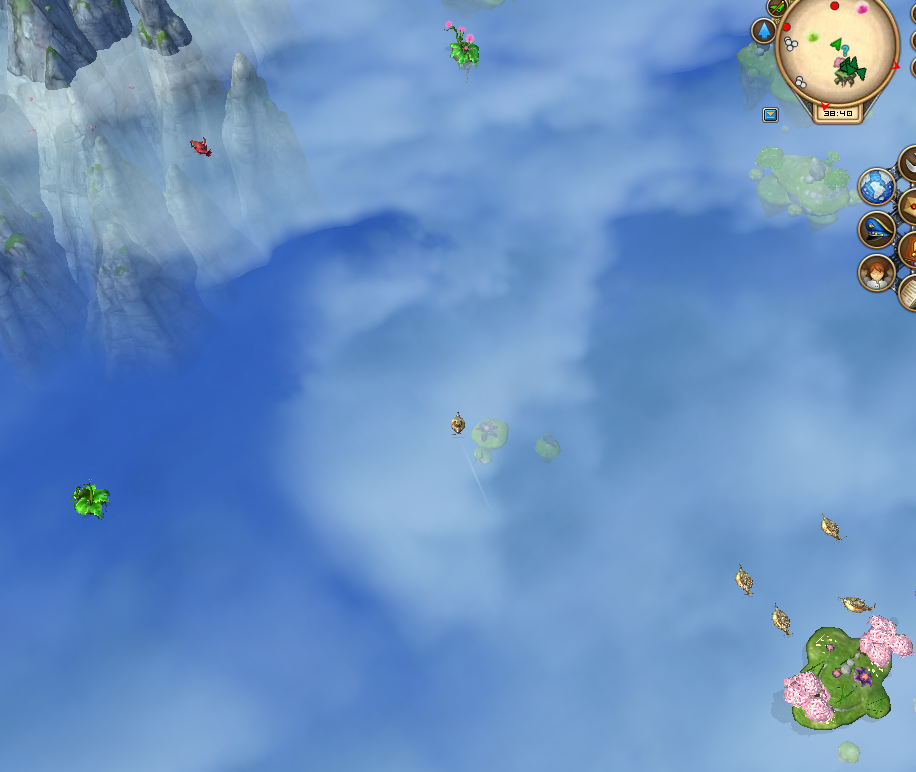dandelion-empty: (66, 475, 113, 525)
dandelion-full: (443, 19, 483, 79)
